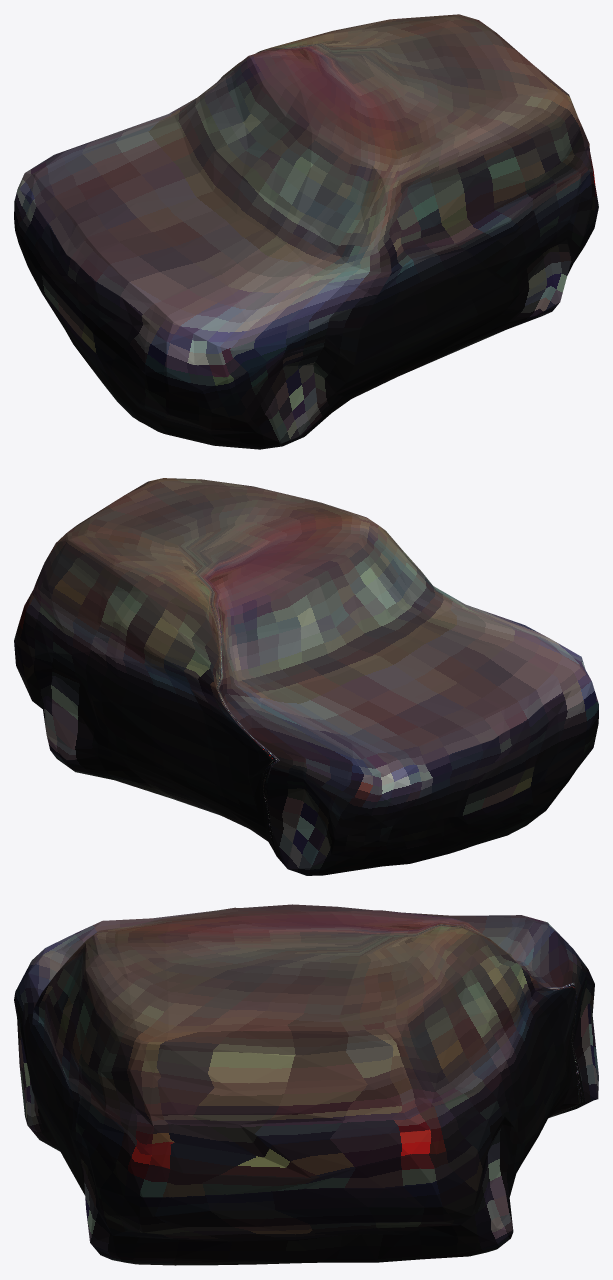
Rendered from video0_12.obj.
The picture shows the model from 3 angles, top to bottom: view 1: azimuth 30°, elevation 25°; view 2: azimuth 150°, elevation 25°; view 3: azimuth 270°, elevation 25°; orthographic projection. The views are drawn at different scales.
Bounding box in the file's own units: 1 × 0.5267 × 0.8517.
1 material, 1 textured.
